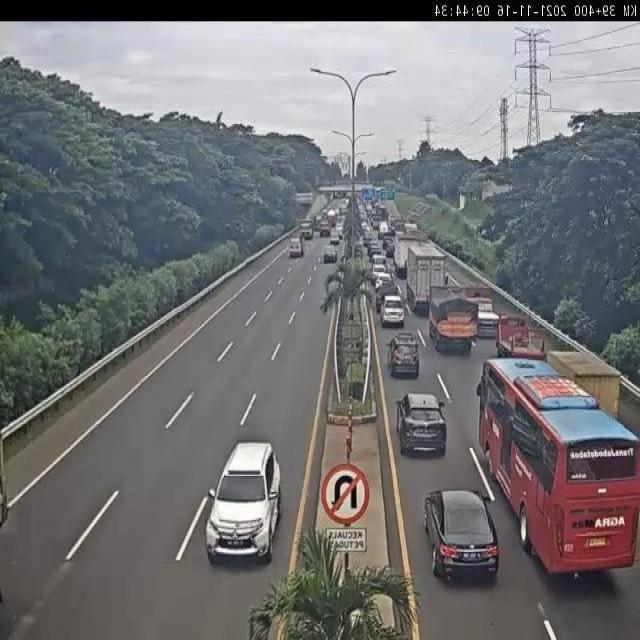Bus: (475, 358, 640, 573)
Car: (205, 441, 282, 564), (424, 485, 502, 582), (395, 390, 447, 455), (386, 332, 421, 378), (380, 295, 405, 328), (289, 237, 303, 258)
Truck: (429, 284, 478, 353), (405, 246, 447, 314), (497, 311, 547, 358)
